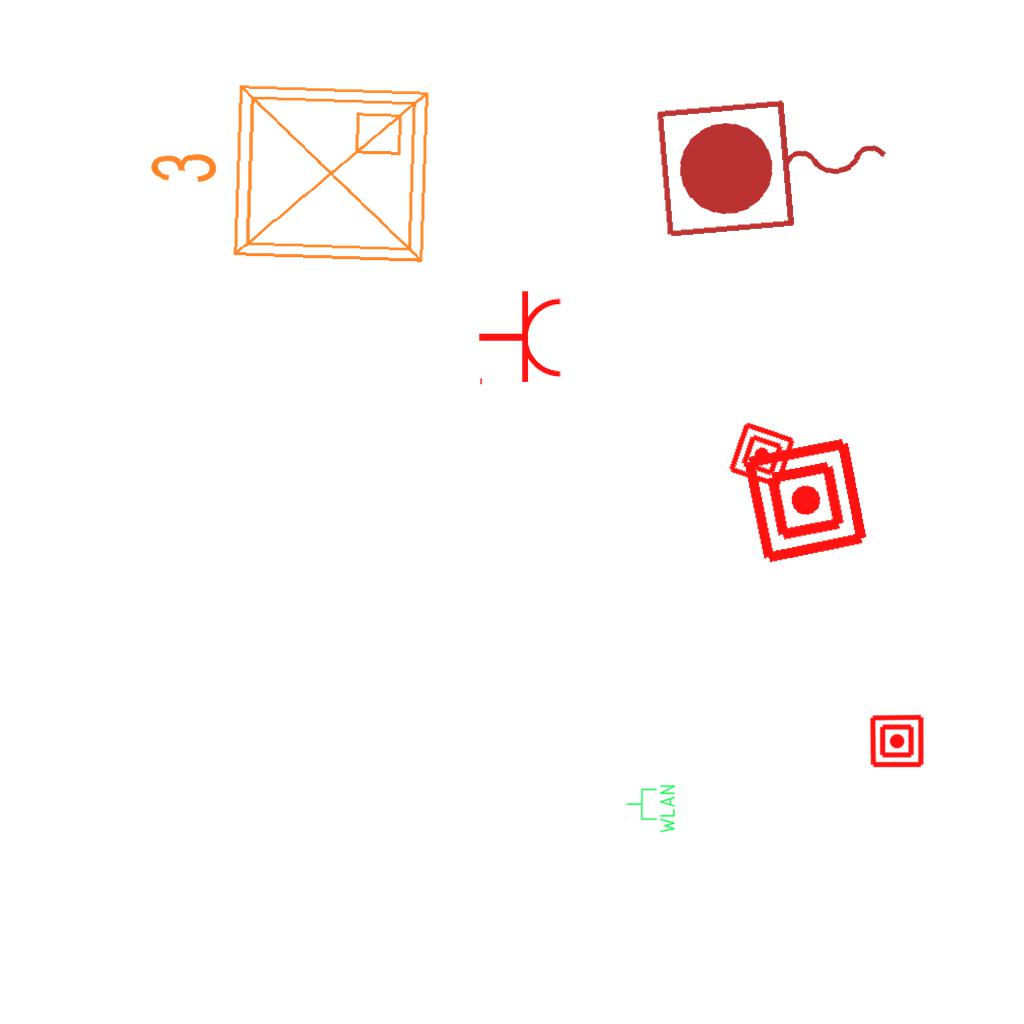Einbaudownlights_LED_Konferenzraeume: (136, 66, 444, 286)
NAM-Nichtautomatischer_Melder: (739, 434, 872, 567), (726, 419, 798, 491), (869, 713, 925, 769)
Schukosteckdose_einfach: (477, 289, 564, 389)
WLAN: (625, 783, 677, 835)
Zugtaster: (648, 83, 904, 249)
